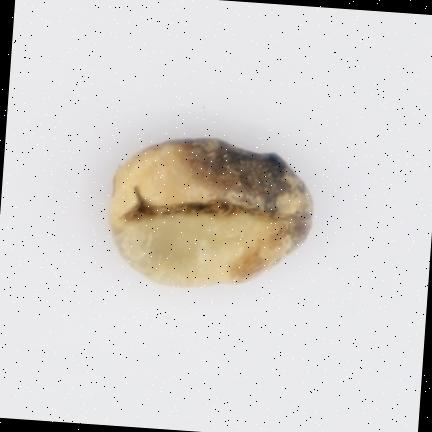partial-black: (109, 139, 312, 285)
